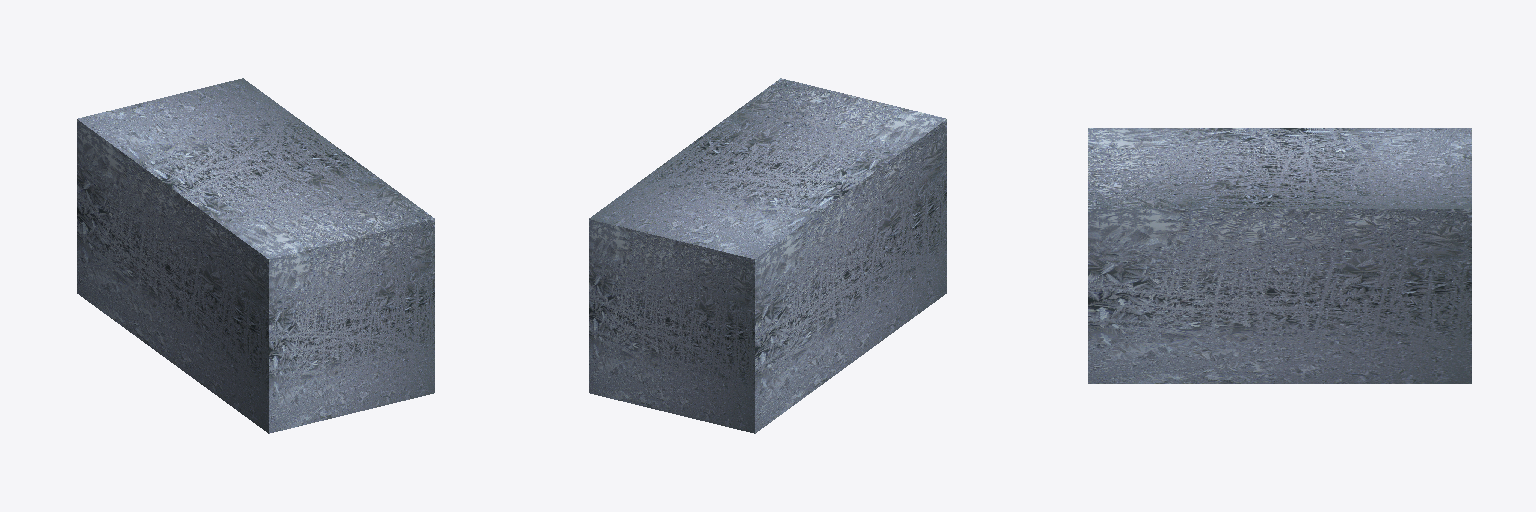
3 views of the same model, side by side, from view 1: azimuth 30°, elevation 25°; view 2: azimuth 150°, elevation 25°; view 3: azimuth 270°, elevation 25° (orthographic).
Parts seen in each view (by area): view 1: MemoryCubeW.001; view 2: MemoryCubeW.001; view 3: MemoryCubeW.001.
Boxes of the visible parts, x1=… form: MemoryCubeW.001: x1=77, y1=78, x2=434, y2=433; MemoryCubeW.001: x1=589, y1=78, x2=946, y2=433; MemoryCubeW.001: x1=1088, y1=128, x2=1471, y2=383.
Size of the model in its own units: 2 by 2 by 4.
Materials: 2 (2 with a texture image).